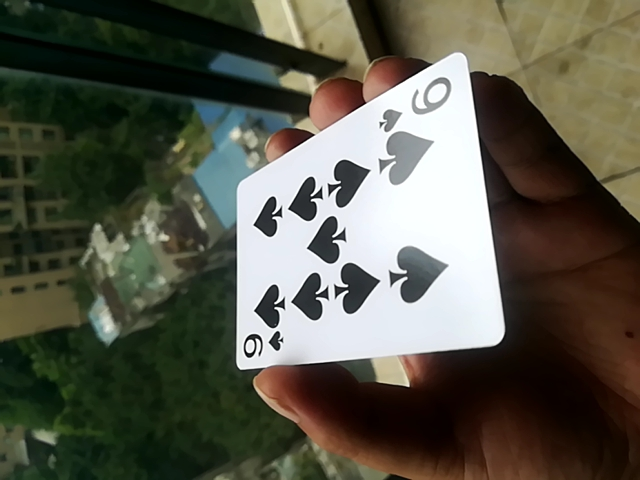ht 9: (233, 46, 504, 374)
